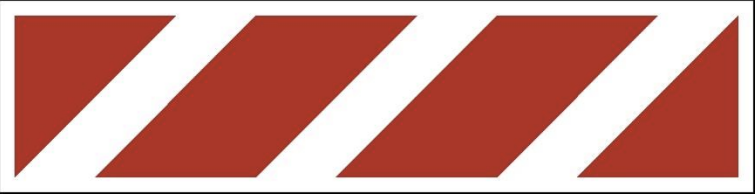obstacle: (25, 10, 728, 178)
